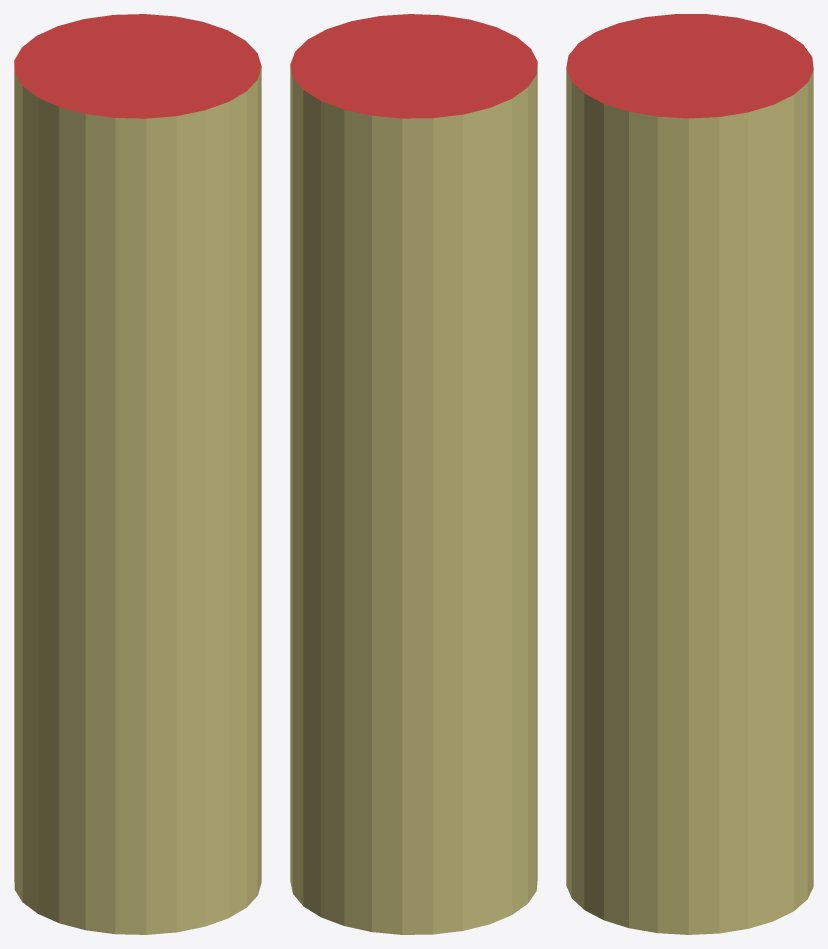
3 renders of one model, left to right at view 1: azimuth 30°, elevation 25°; view 2: azimuth 150°, elevation 25°; view 3: azimuth 270°, elevation 25°, orthographic.
Size of the model in its own units: 2.39 by 2.39 by 8.69.
